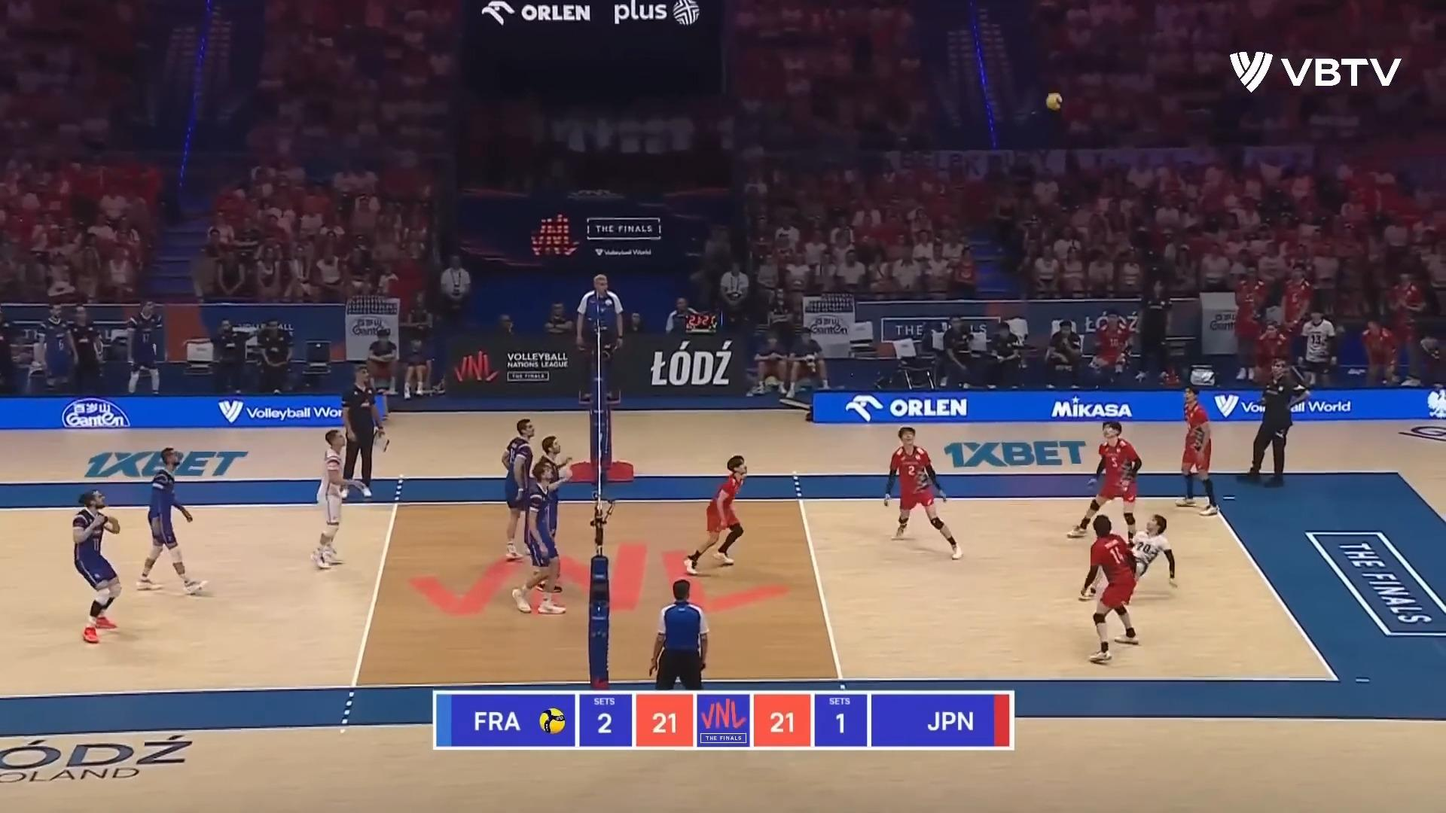ball: (1047, 92, 1063, 110)
